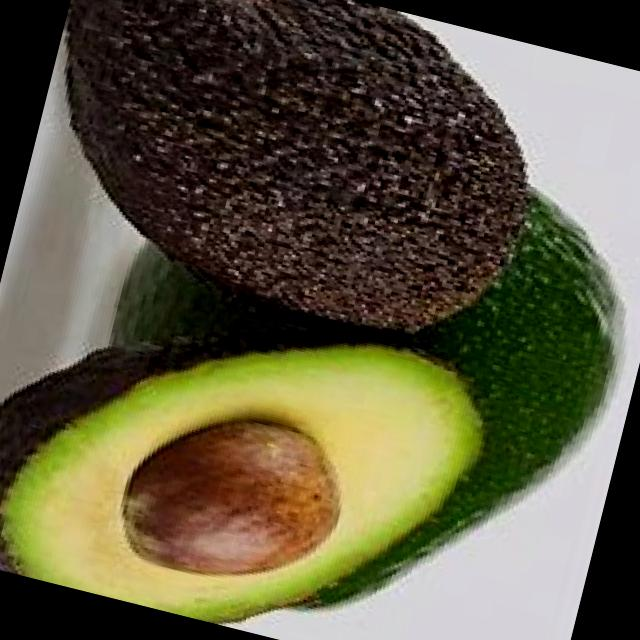avocado: (10, 0, 588, 366), (0, 237, 507, 640)
